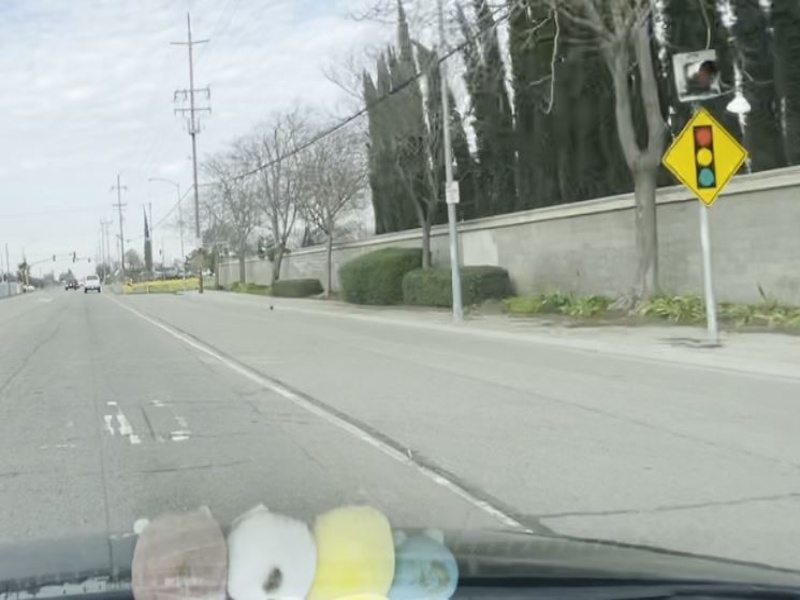traffic signal sign: (659, 107, 749, 210)
